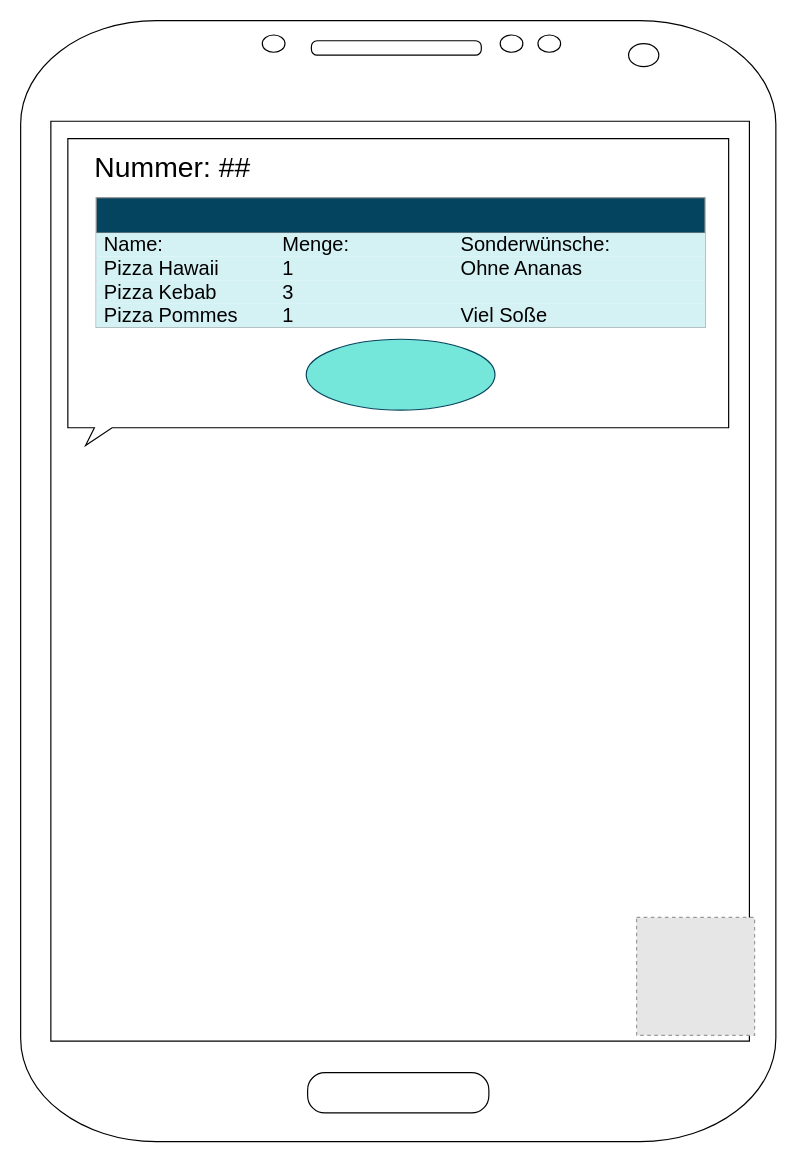
Image size: 796x1162. Some labels were removed from this diagram. Grey dashed boxes stand in for pictures. Here are the shapes that lost their labels. From the top down, the box of each, then its label:
(95, 196, 705, 327): Positionen
(305, 338, 495, 410): Schließen
